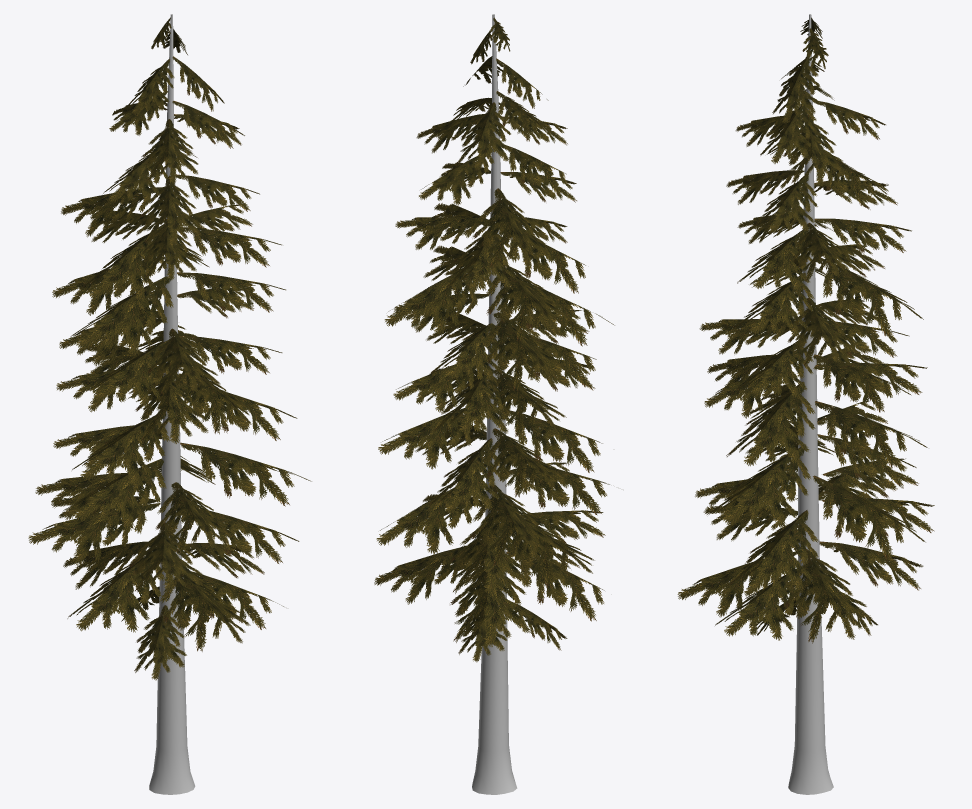
The model's file is pine_tree_n_3_4.obj.
3 views of the same model, side by side, from view 1: azimuth 30°, elevation 25°; view 2: azimuth 150°, elevation 25°; view 3: azimuth 270°, elevation 25° (orthographic).
Visible parts, largest first — view 1: pine_tree_n_3_4; view 2: pine_tree_n_3_4; view 3: pine_tree_n_3_4.
Part boxes in pixels (left/top/right/bottom): pine_tree_n_3_4: left=28, top=14, right=311, bottom=794; pine_tree_n_3_4: left=374, top=14, right=614, bottom=794; pine_tree_n_3_4: left=677, top=14, right=934, bottom=794.
Bounding box in the file's own units: 1.63 × 4.59 × 1.54.
